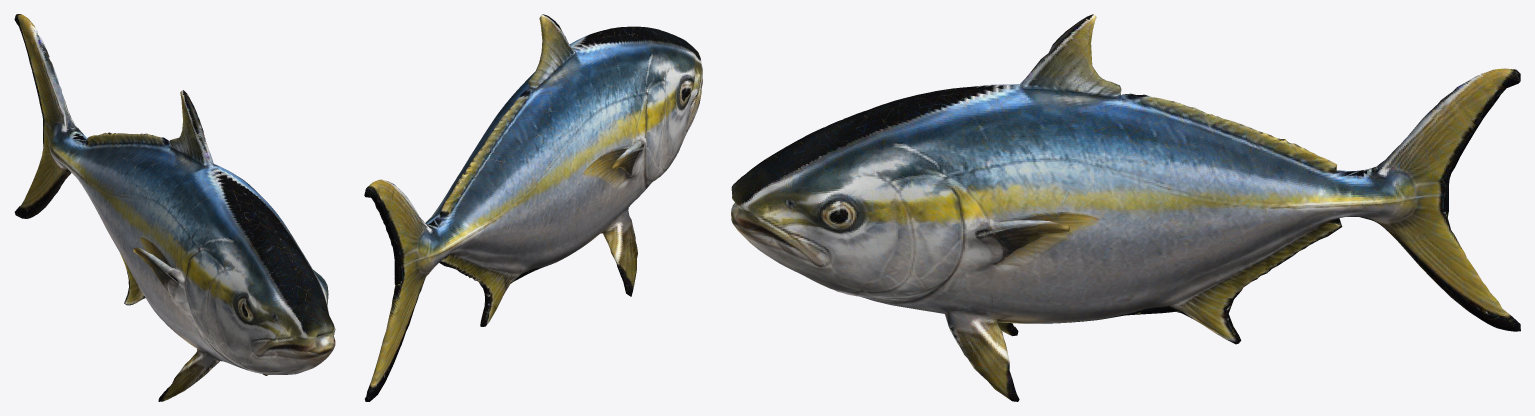
The model's file is fish_amber.glb.
The picture shows the model from 3 angles, left to right: view 1: azimuth 30°, elevation 25°; view 2: azimuth 150°, elevation 25°; view 3: azimuth 270°, elevation 25°; orthographic projection. The views are drawn at different scales.
Visible parts, largest first — view 1: geometry_0; view 2: geometry_0; view 3: geometry_0.
Boxes of the visible parts, x1,y1,x2,y2 form: geometry_0: [14, 14, 335, 401]; geometry_0: [364, 14, 702, 401]; geometry_0: [731, 14, 1520, 401].
Size of the model in its own units: 0.4397 by 0.9728 by 1.96.
Materials: 1 (1 with a texture image).
